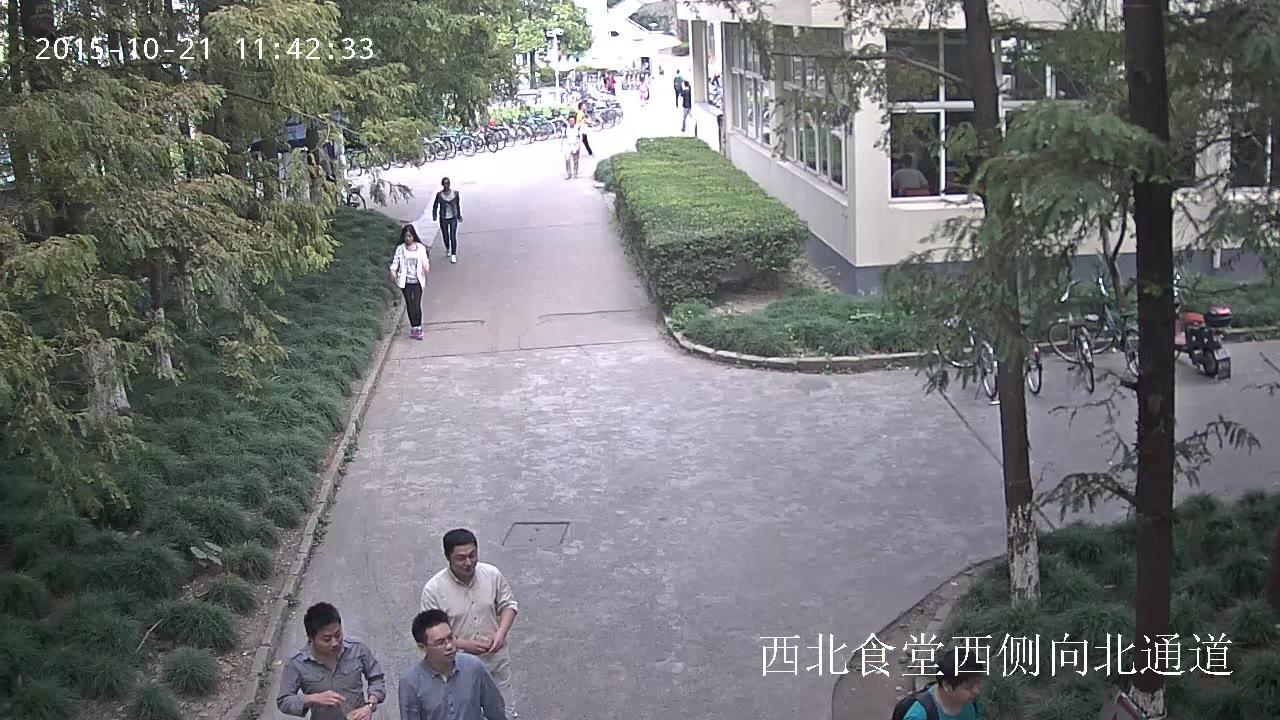person: (419, 527, 517, 706), (277, 601, 385, 720), (397, 609, 507, 720), (892, 648, 984, 720), (390, 223, 429, 340), (432, 177, 462, 263), (892, 154, 928, 196), (564, 116, 580, 179), (574, 102, 593, 155), (680, 79, 691, 131), (673, 68, 683, 107), (638, 77, 649, 107)
